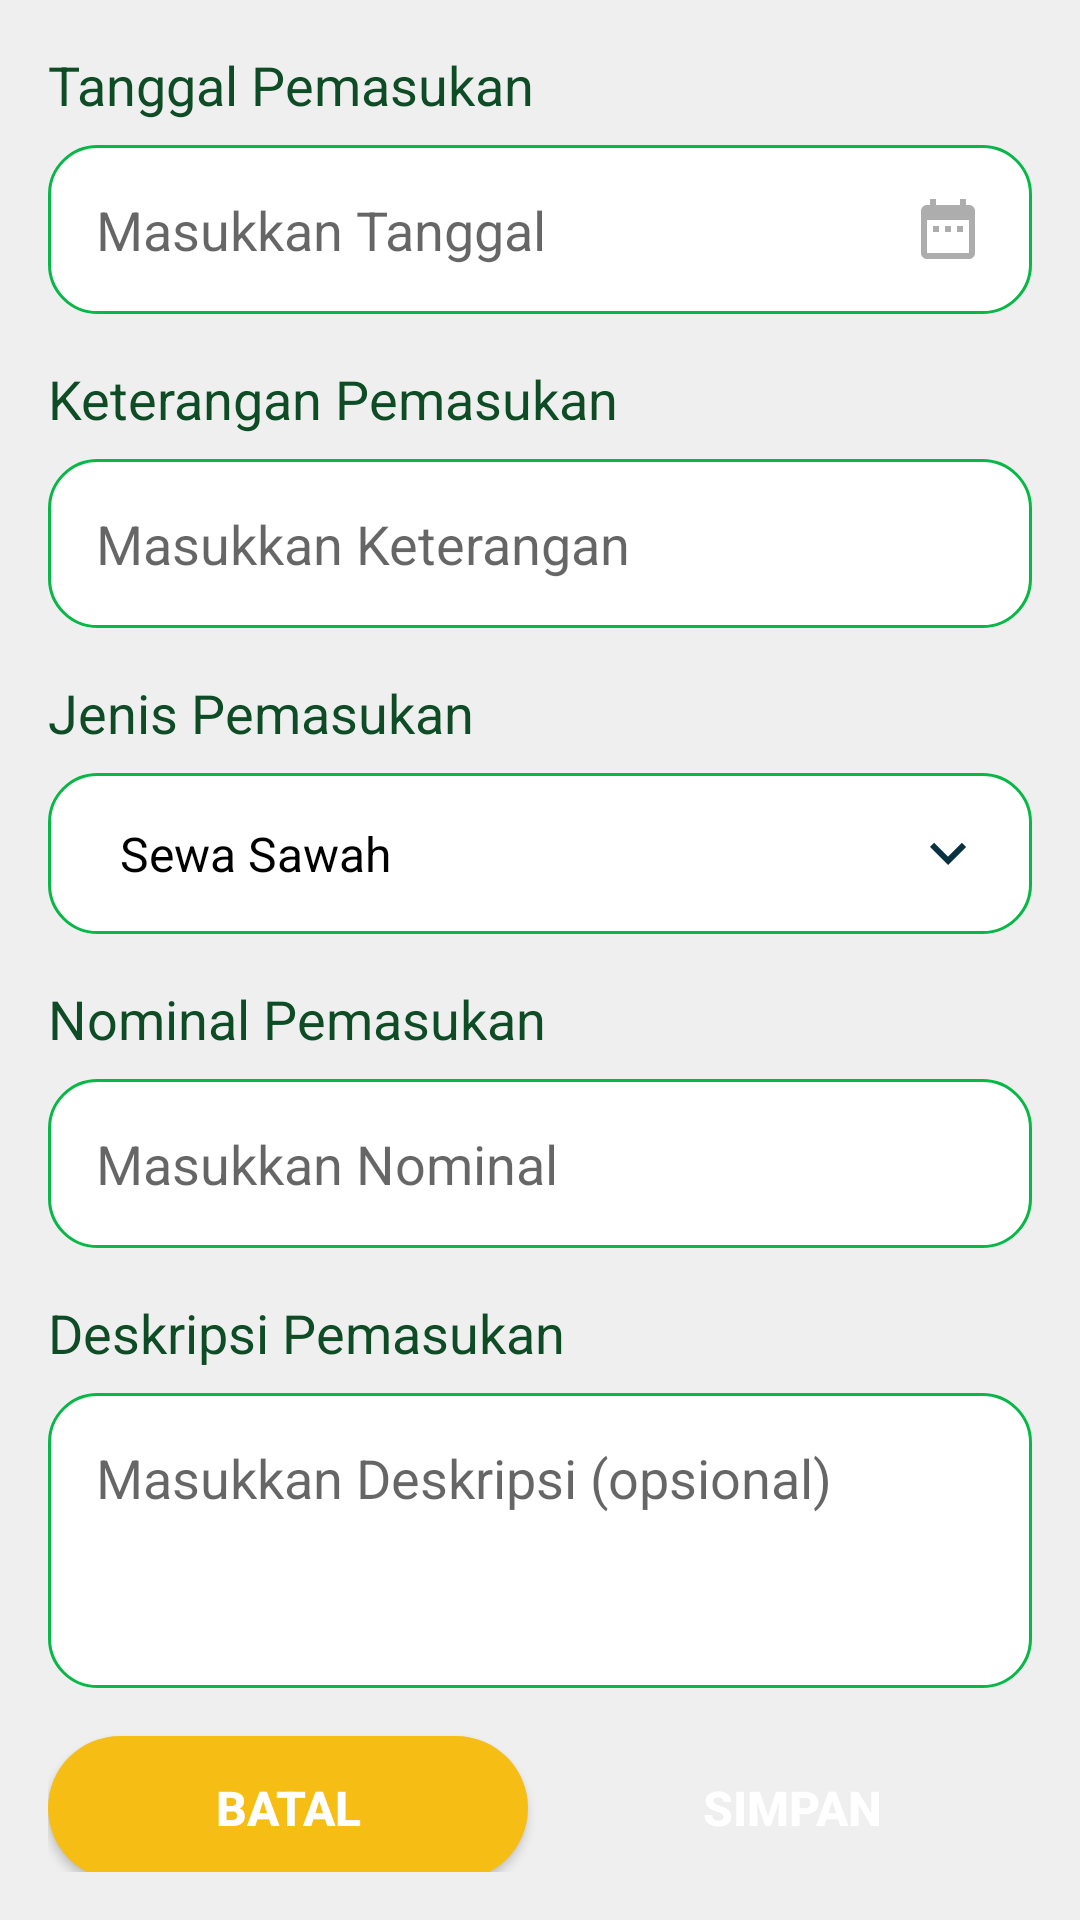

Point at icon controls on the screen. Image size 1080 × 1920, points as point (x, y).
arrow down: point (948, 854)
